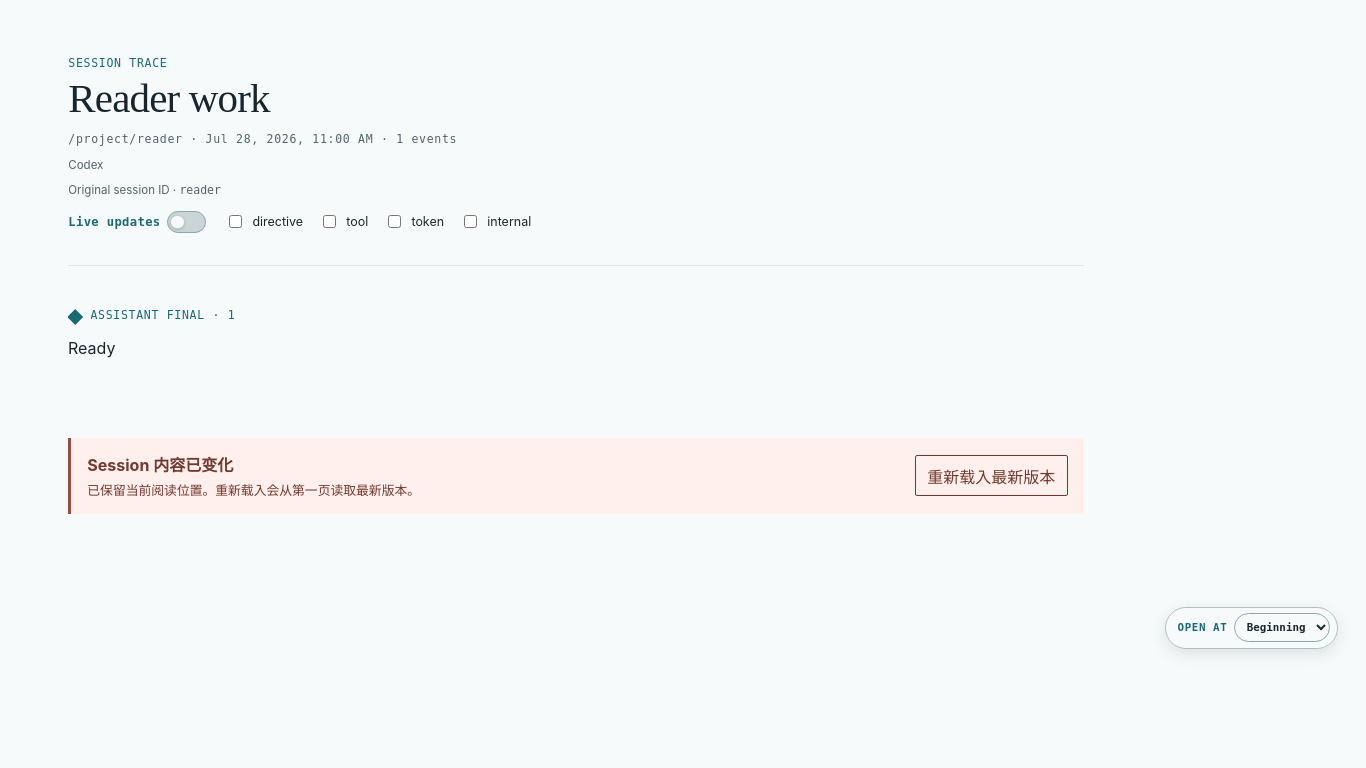
Test: MPA pages › keeps the old timeline when reload fails and replaces it only after success
The image size is (1366, 768).
Expected: the text "Ready" is shown, [68,337,116,357]
Click the button "重新载入最新版本". click: coordinates (991, 476)
box: [915,455,1068,496]
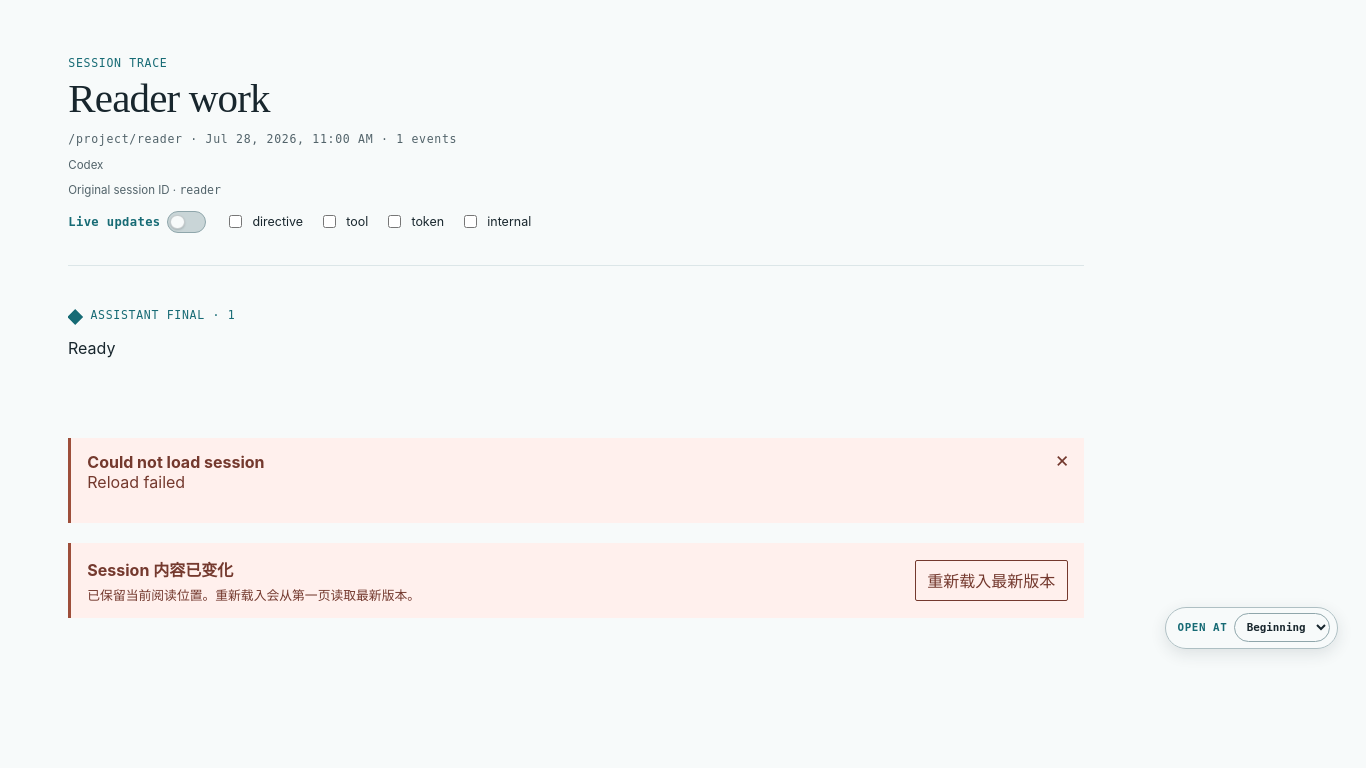
Expected: the text "Ready" is shown, [68,337,116,357]
Expected: the text "Reload failed" is shown, [87,472,185,492]
Click the button "重新载入最新版本". click: coordinates (991, 580)
box: [915,560,1068,601]
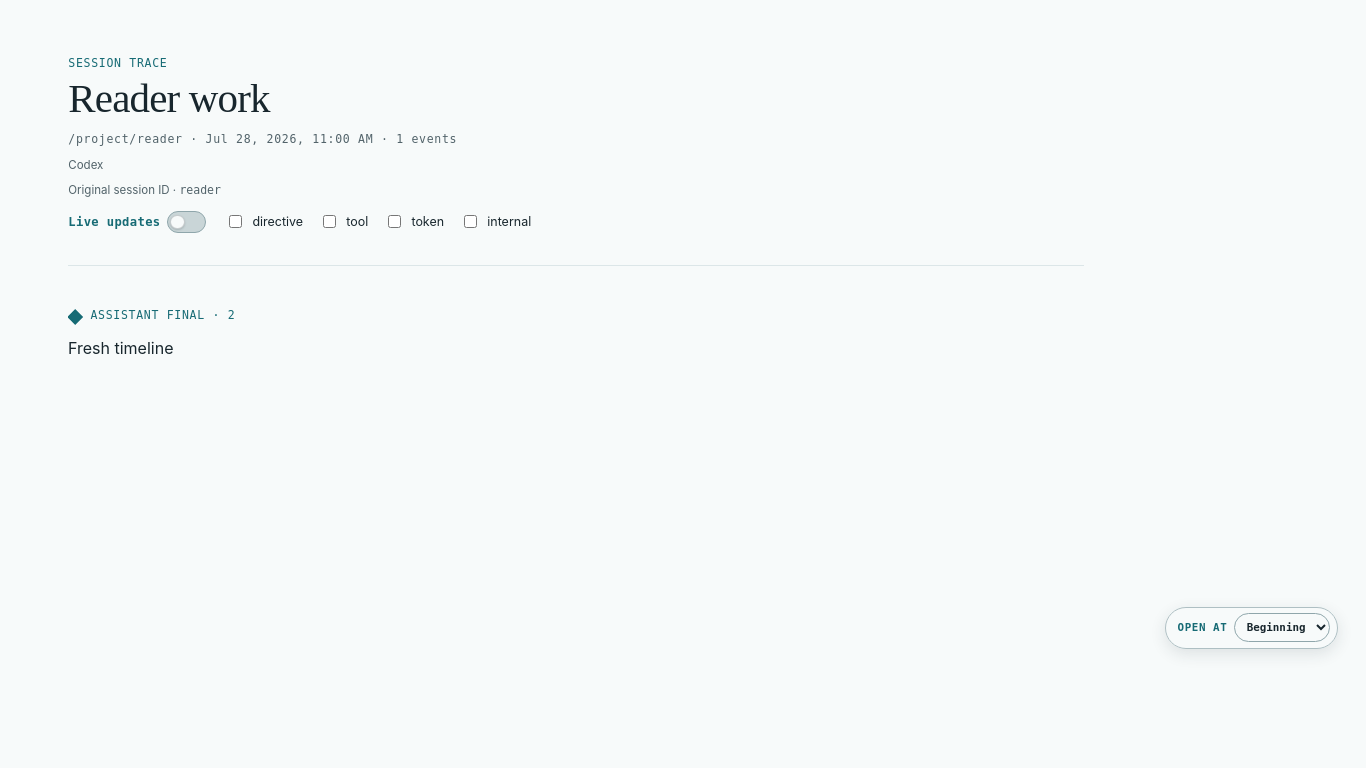
Expected: the text "Fresh timeline" is shown, [68,337,174,357]
Expected: the text "Ready" is gone
Expected: the text "Session 内容已变化" is gone
